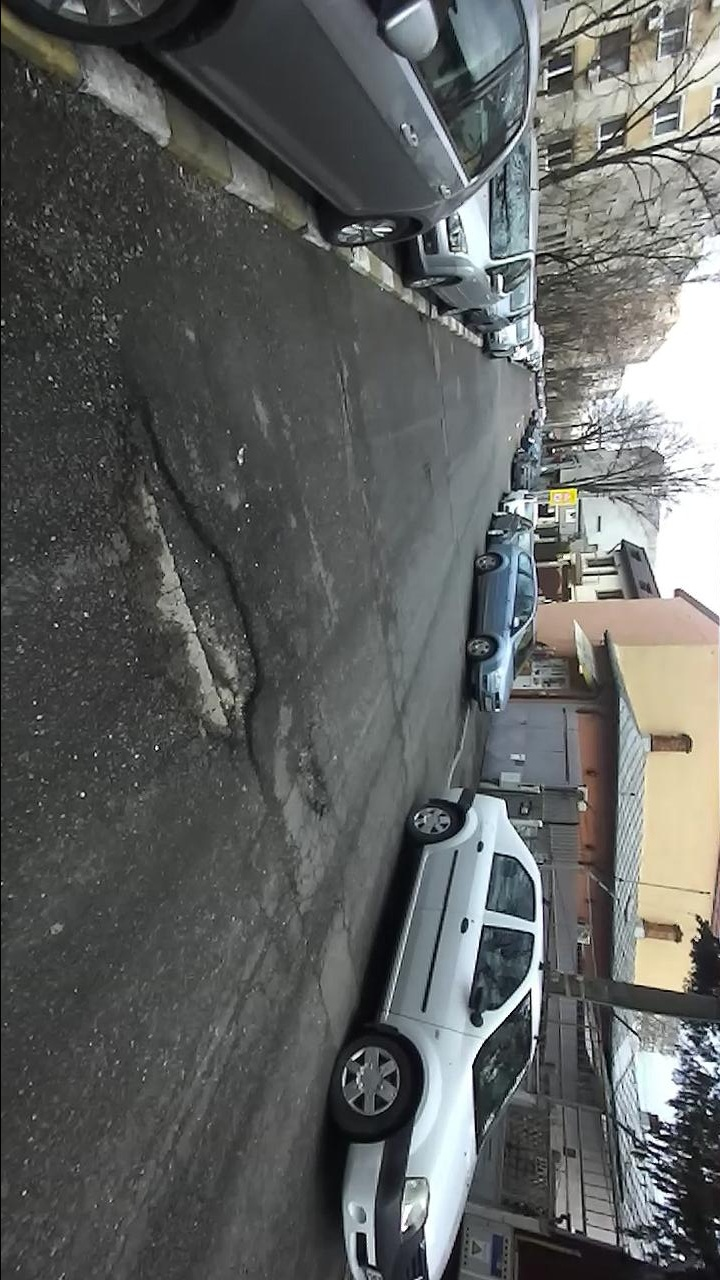pothole: (107, 372, 273, 801), (290, 724, 341, 829), (331, 344, 359, 439)
